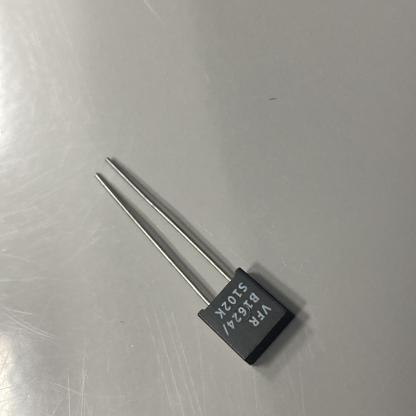SP0000008: (41, 103, 365, 416)
